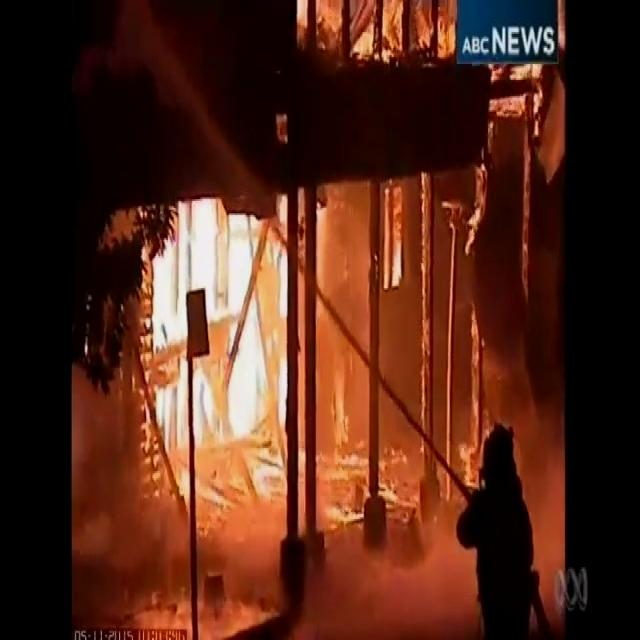fire: (137, 178, 370, 524), (419, 164, 486, 498), (292, 2, 458, 68), (480, 64, 552, 144), (382, 178, 408, 292), (380, 446, 419, 514), (520, 138, 531, 304)
smoke: (146, 530, 480, 628), (488, 230, 563, 628), (74, 366, 142, 622), (381, 293, 420, 439)
